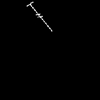treble_crochet: (27, 2, 51, 30)
